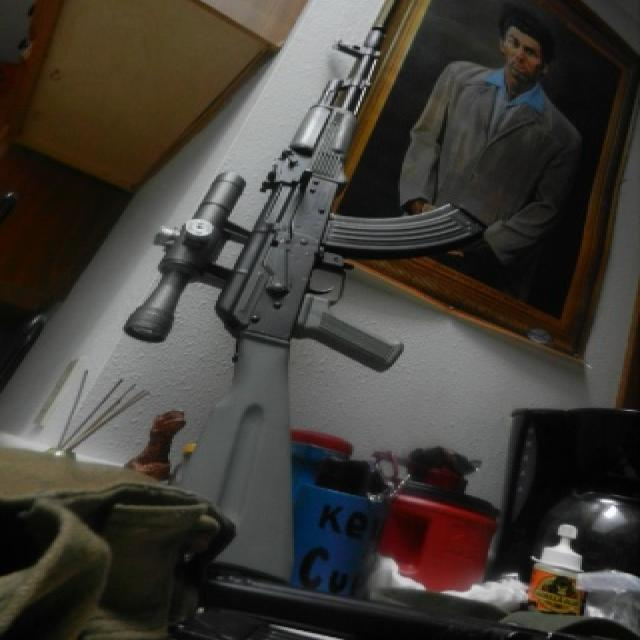weapon: (112, 3, 478, 589)
